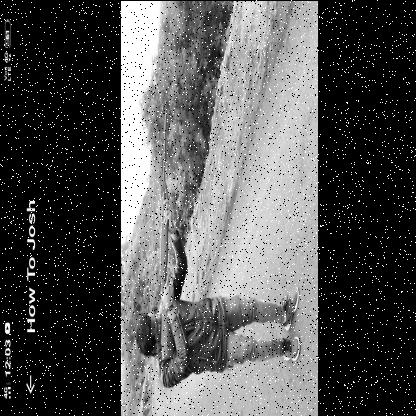rifle: (158, 97, 176, 361)
